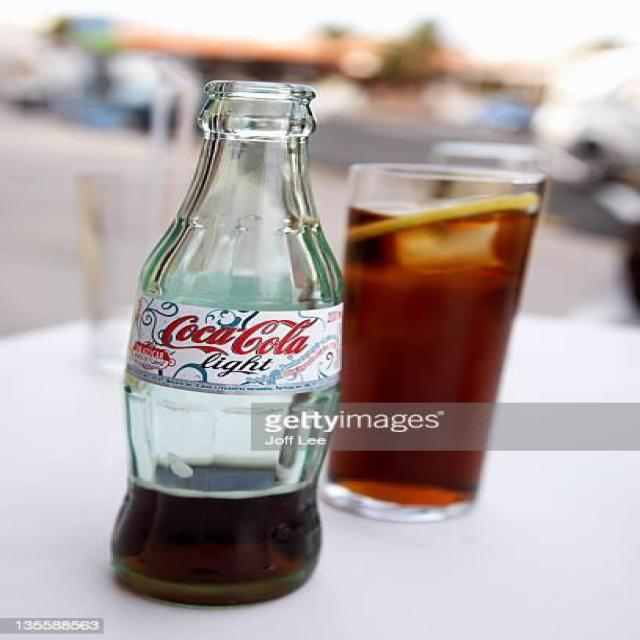coca-cola: (104, 78, 331, 611)
